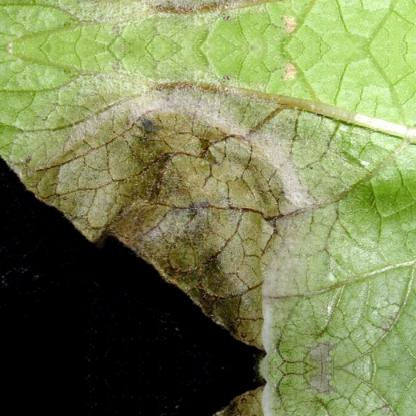Early-Blight: (0, 48, 412, 368)
